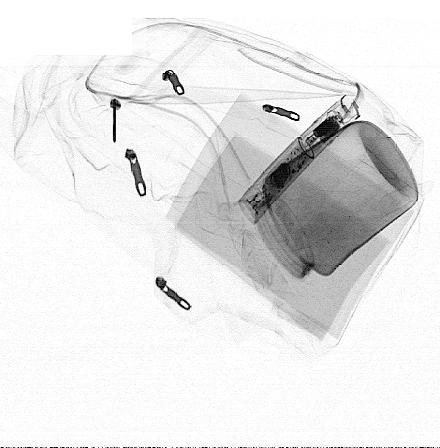Baton: (237, 94, 363, 226)
